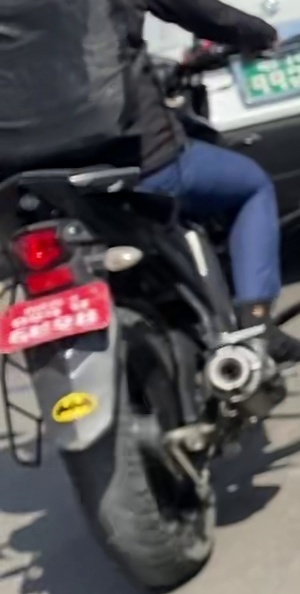license_plate: (1, 281, 112, 352)
